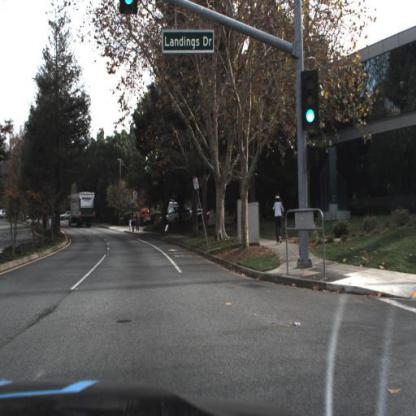pedestrian: (273, 194, 287, 247), (274, 194, 286, 245)
trafficLight-Green: (304, 71, 318, 126)
truck: (70, 191, 97, 233)
